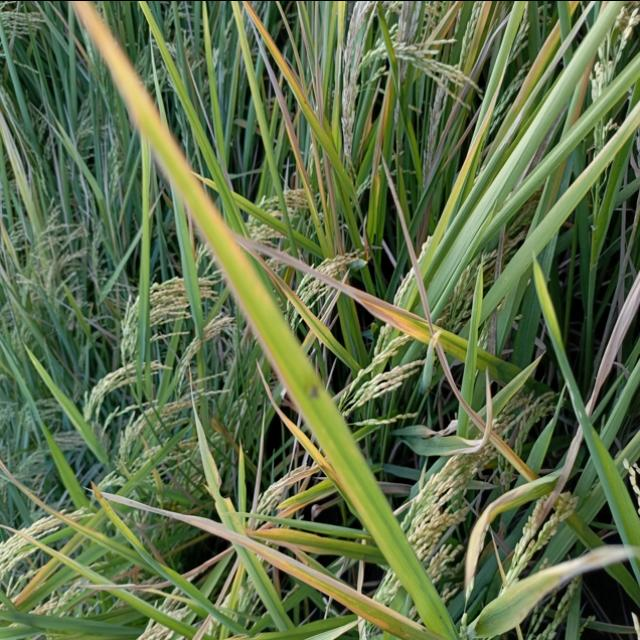Hawar Daun Bakteri: (94, 487, 400, 640), (54, 1, 216, 244), (245, 232, 454, 370), (221, 0, 342, 213), (6, 504, 88, 619)
